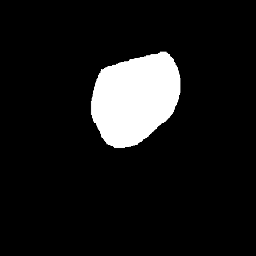mass: (91, 52, 181, 130)
